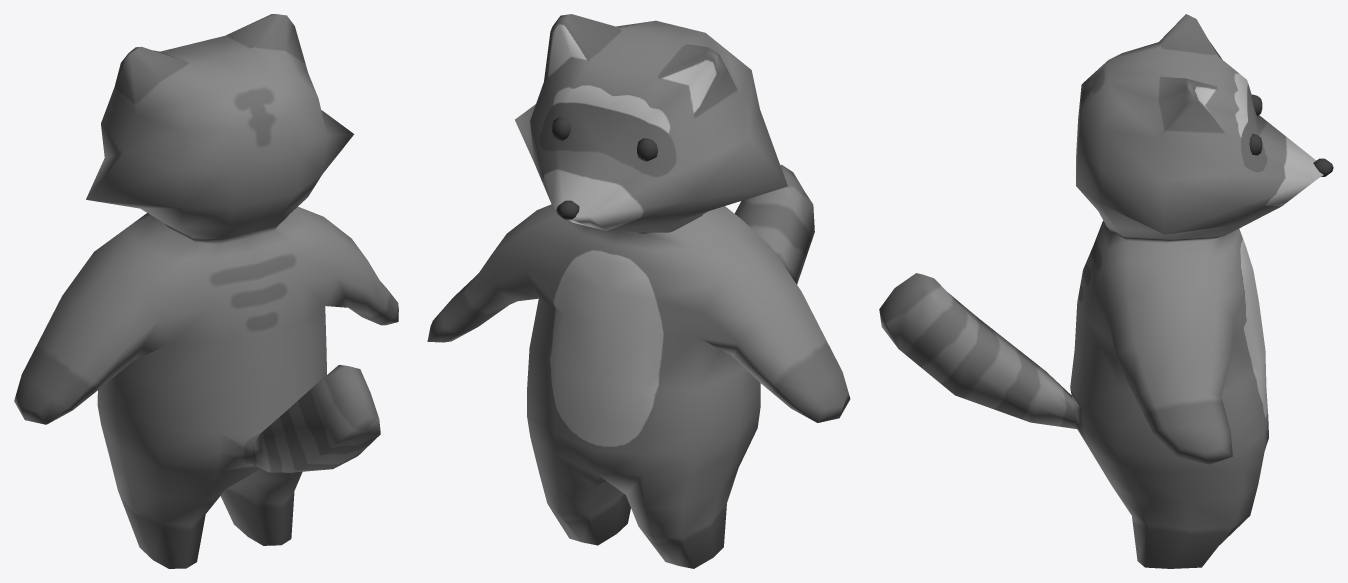
File: Raccoon_FBX.fbx
3 renders of one model, left to right at view 1: azimuth 30°, elevation 25°; view 2: azimuth 150°, elevation 25°; view 3: azimuth 270°, elevation 25°, orthographic. The views are drawn at different scales.
Parts seen in each view (by area): view 1: raccoon; view 2: raccoon; view 3: raccoon.
Part boxes in pixels (left/top/right/bottom): raccoon: left=14, top=14, right=398, bottom=568; raccoon: left=427, top=14, right=850, bottom=568; raccoon: left=879, top=14, right=1333, bottom=568.
Bounding box in the file's own units: 1.12 × 1.41 × 1.18.
